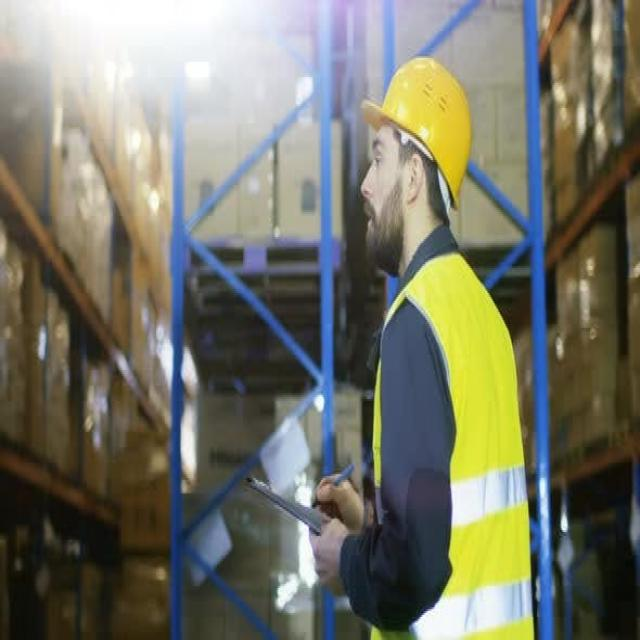Reflective-Jacket: (355, 250, 542, 640)
Safety-Helmet: (359, 50, 480, 214)
